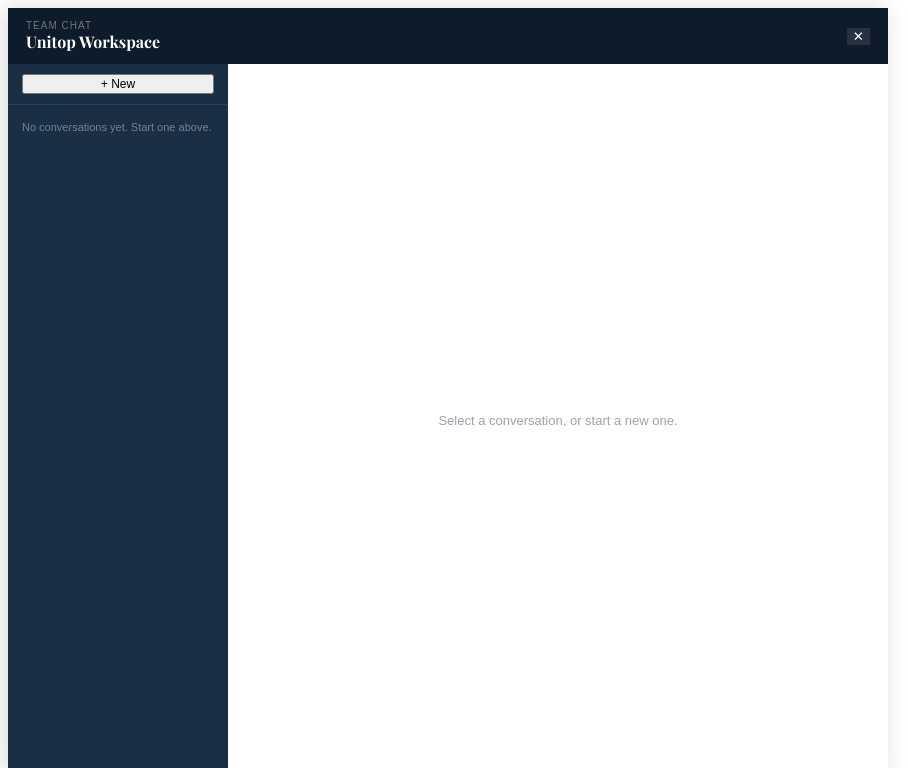
Test: InAppChat UI › clicking + New shows both New Direct Message and New Group options
Click the button "+ New" at (118, 84), box [22,74,214,94]
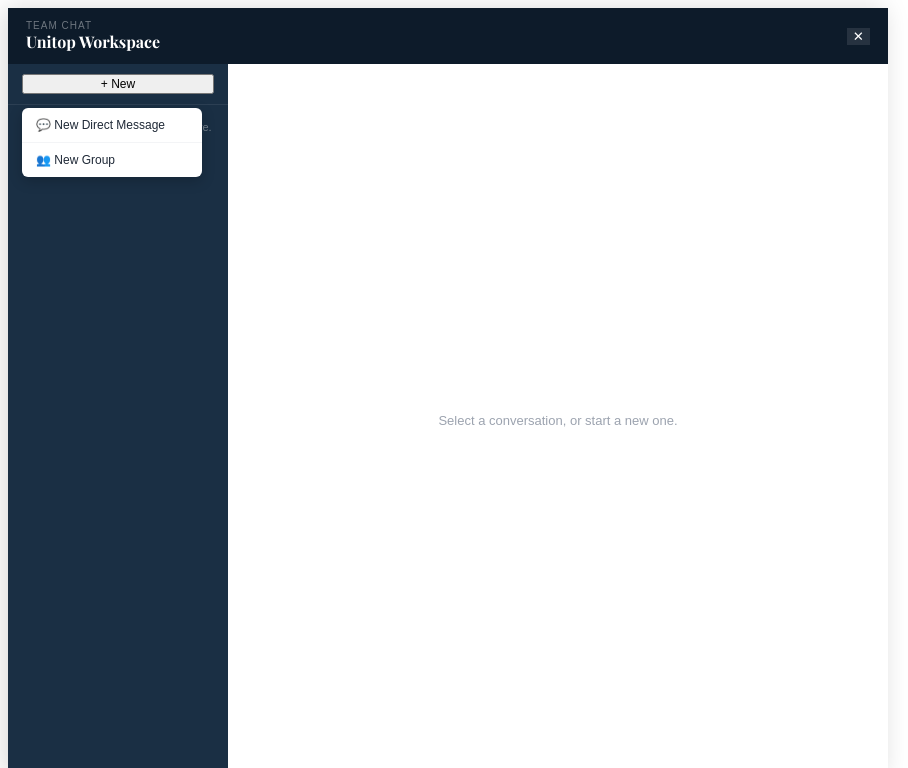
Result: the text "💬 New Direct Message" is shown at [36,118,165,132]
Result: the text "👥 New Group" is shown at [22,142,202,177]
